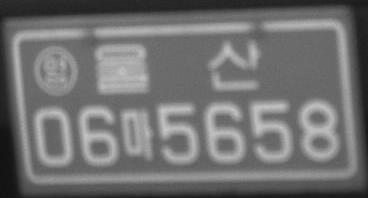0: (32, 106, 74, 169)
5: (250, 100, 293, 163), (158, 102, 200, 166)
6: (203, 101, 246, 164), (77, 105, 119, 167)
8: (299, 99, 342, 164)
마: (119, 107, 155, 162)
영: (32, 44, 78, 98)
울산_D: (93, 38, 262, 93)
